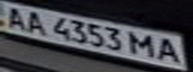3: (103, 25, 127, 53), (66, 18, 87, 45)
4: (45, 13, 72, 42)
5: (84, 21, 106, 50)
A: (154, 36, 184, 65), (21, 8, 51, 36), (0, 3, 30, 30)
M: (127, 29, 160, 58)
